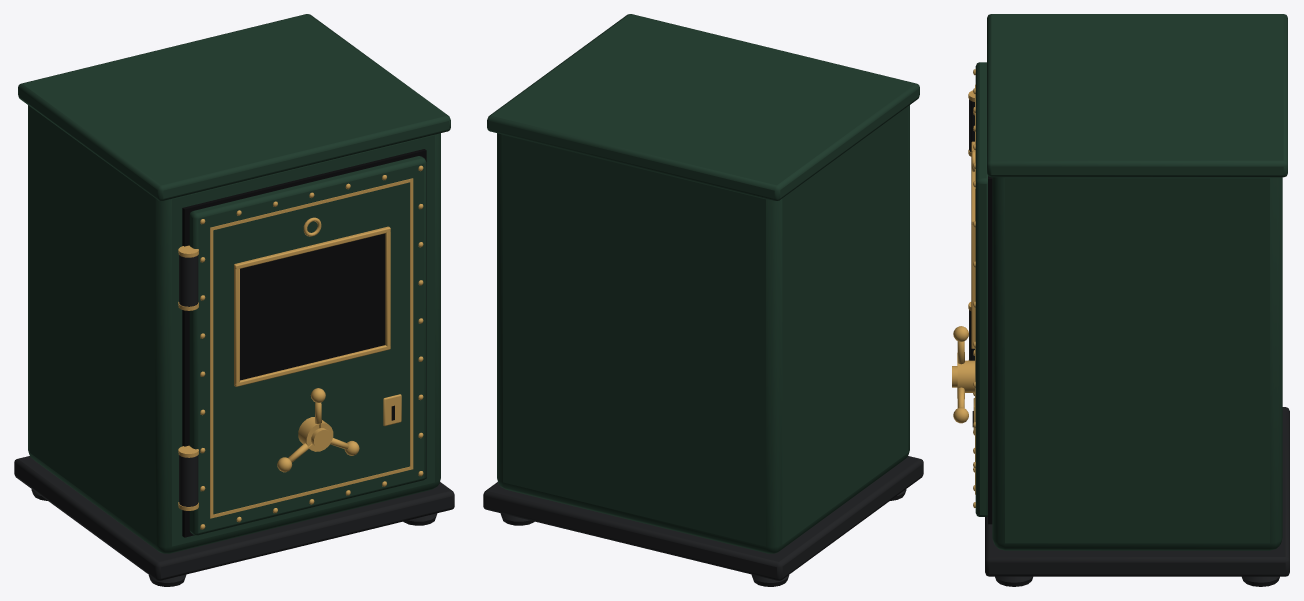
The model's file is safe.glb.
The picture shows the model from 3 angles, left to right: view 1: azimuth 30°, elevation 25°; view 2: azimuth 150°, elevation 25°; view 3: azimuth 270°, elevation 25°; orthographic projection. The views are drawn at different scales.
Parts seen in each view (by area): view 1: safe_enamel, safe_recess, safe_steel_dark, safe_brass; view 2: safe_enamel, safe_steel_dark; view 3: safe_enamel, safe_steel_dark, safe_brass, safe_recess.
Part boxes in pixels (box(x1,y1,x2,y2)): safe_enamel: box(18, 14, 450, 553); safe_recess: box(182, 149, 426, 537); safe_steel_dark: box(14, 255, 454, 586); safe_brass: box(178, 165, 423, 529); safe_enamel: box(487, 14, 919, 553); safe_steel_dark: box(483, 456, 923, 586); safe_enamel: box(975, 14, 1287, 550); safe_steel_dark: box(969, 99, 1289, 586); safe_brass: box(952, 69, 975, 507); safe_recess: box(972, 176, 992, 524).
Size of the model in its own units: 1 by 1.3 by 0.931.
